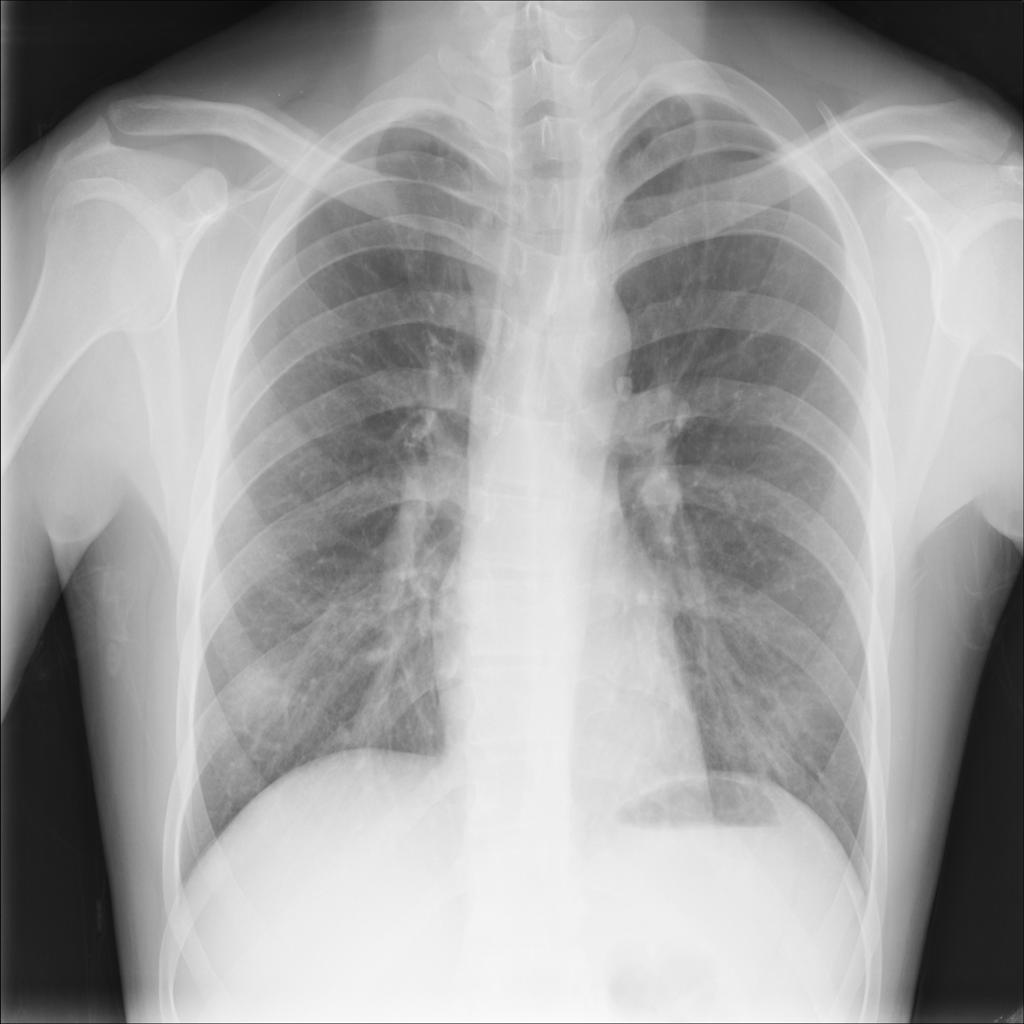nodule: (207, 634, 317, 748)
